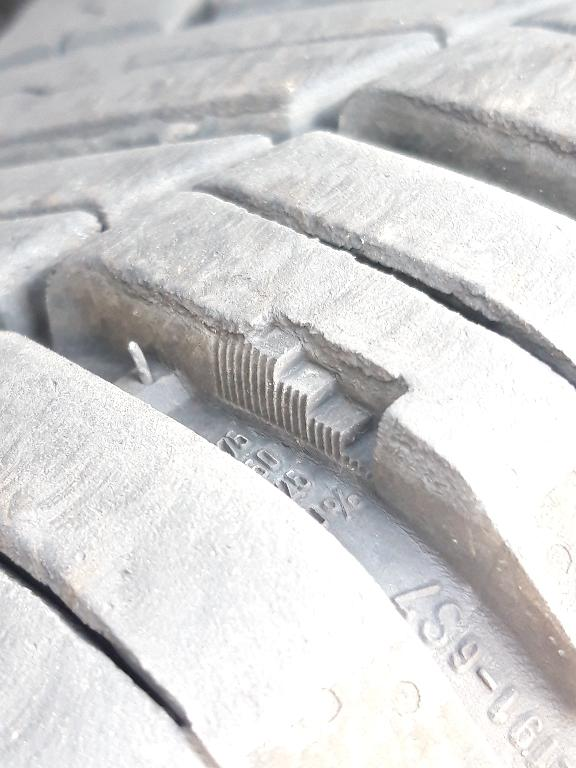temoin:80: (202, 286, 422, 491)
